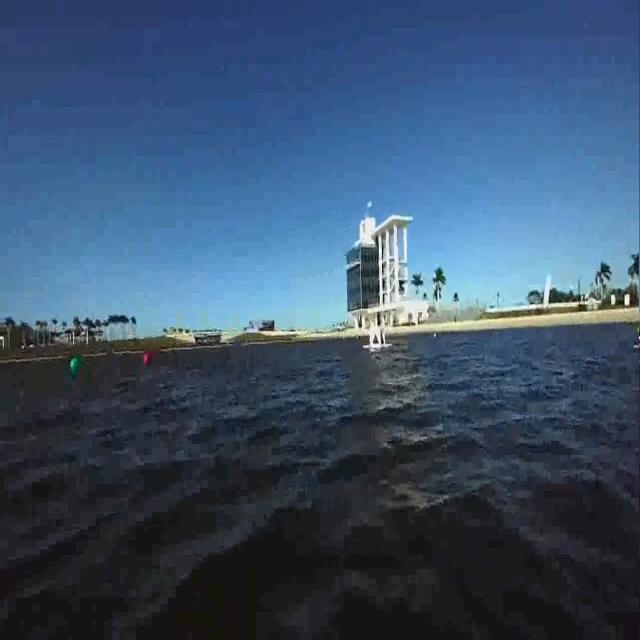green-buoy: (70, 358, 82, 371)
